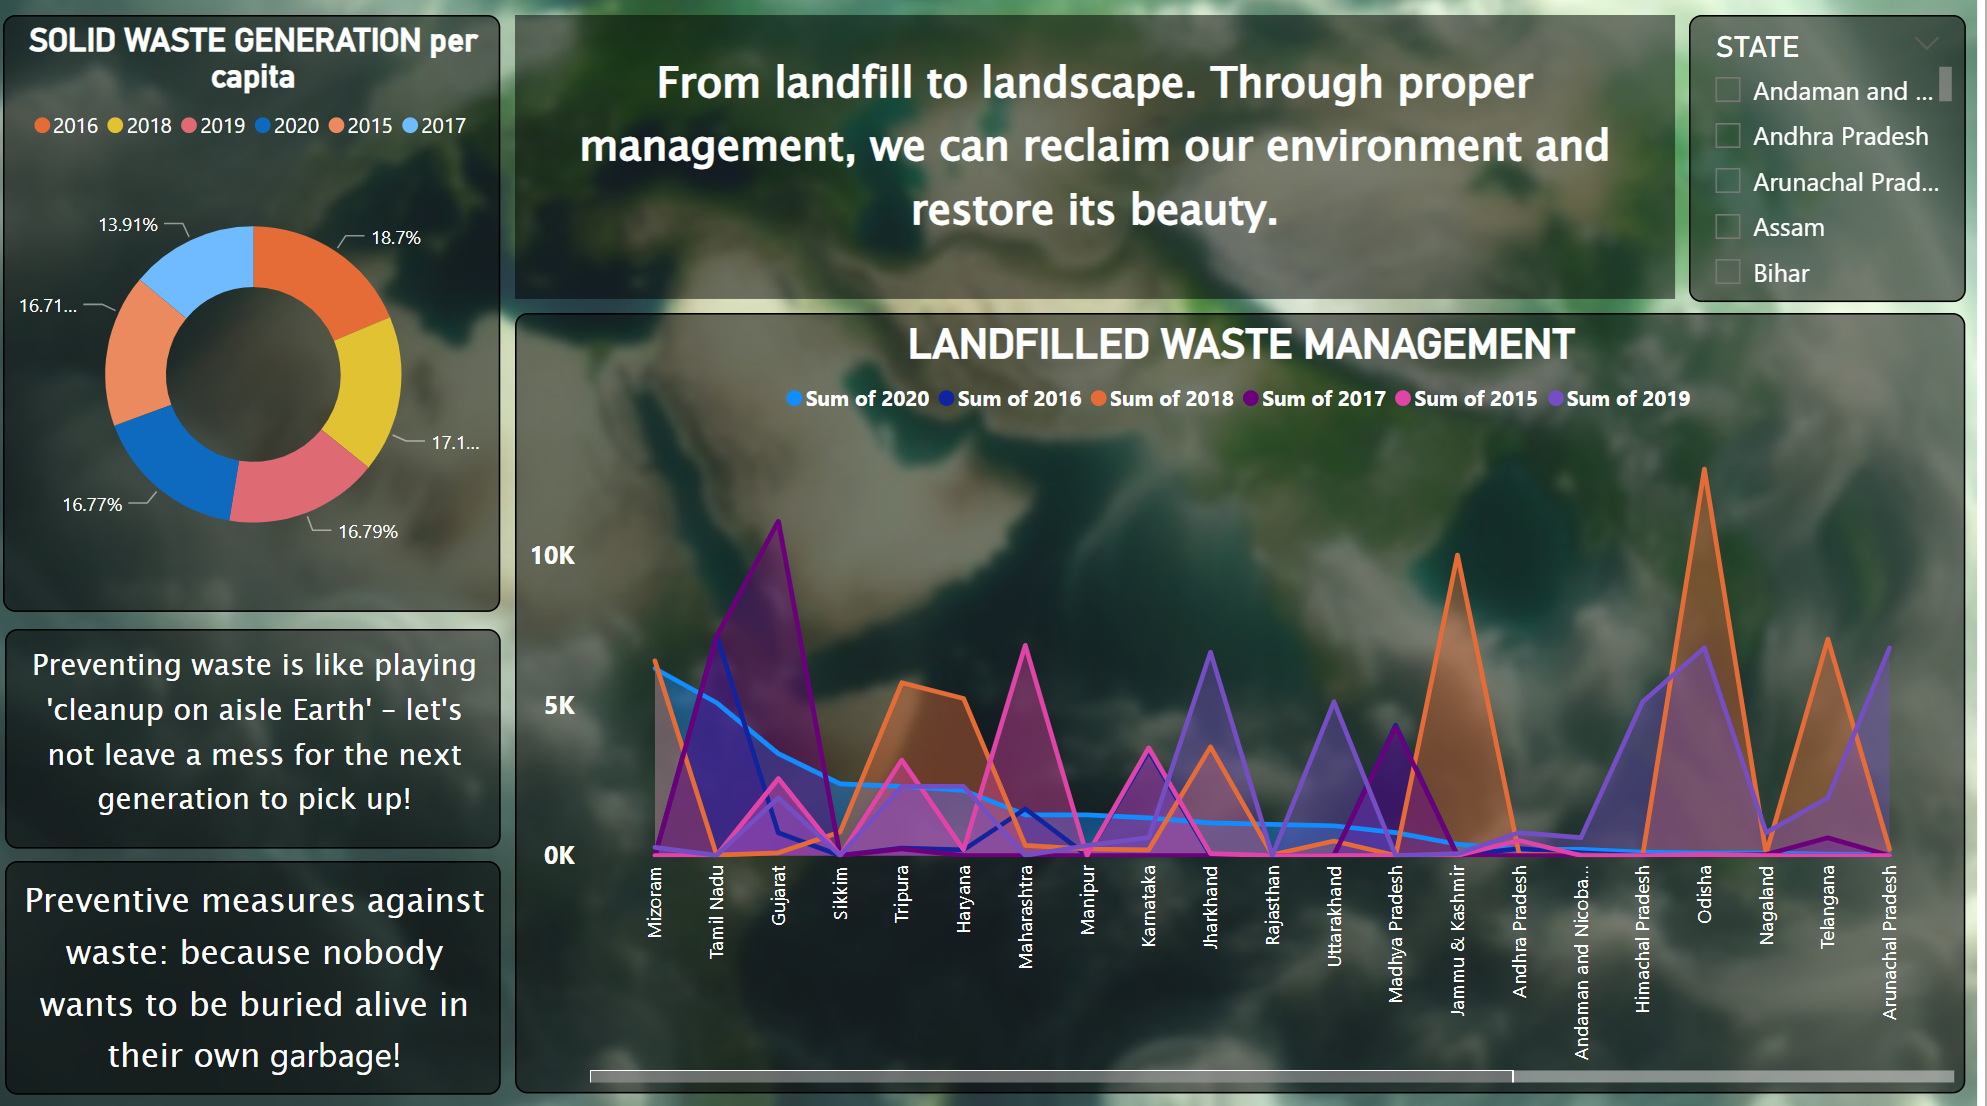

The dashboard page shown, as its layout file describes it:
{"tool":"powerbi","page":{"name":"Page 2","canvas":[1280,720],"ordinal":1},"visuals":[{"type":"image","box":[0,0,1280.2,719.8],"z":0},{"type":"areaChart","title":"LANDFILLED WASTE MANAGEMENT","fields":{"Category":["MSW.State"],"Y":["Sum(MSW.Landfilled(2020))","Sum(MSW.Landfilled(2016))","Sum(MSW.Landfilled(2018))","Sum(MSW.Landfilled(2017))","Sum(MSW.Landfilled(2015))","Sum(MSW.Landfilled(2019))","Sum(MSW.Landfilled(2015))"]},"box":[343,207,924.4,497.7],"z":1000},{"type":"donutChart","title":"SOLID WASTE GENERATION                  per capita","fields":{"Category":["solid waste generation.Year"],"Y":["Sum(solid waste generation.Solid waste generation per Capita (gm/day))"]},"box":[16.9,16.9,317.2,380.6],"z":2000},{"type":"textbox","box":[342.9,16.6,739.4,181],"z":3000},{"type":"textbox","box":[18,556.1,316.1,149.1],"z":4000},{"type":"slicer","fields":{"Values":["MSW.State"]},"box":[1091.1,16.9,176.6,182.9],"z":5000},{"type":"textbox","box":[17.8,407.4,316.1,140.2],"z":6000}]}

Visuals, with their boxes in screenshot pixels (x1, y1, x2, y2), scaled from the page's 1280x720 canvas onto the 1987x1106 screenshot:
image: l=0, t=0, r=1986, b=1105
"LANDFILLED WASTE MANAGEMENT" areaChart: l=532, t=318, r=1967, b=1082
"SOLID WASTE GENERATION                  per capita" donutChart: l=26, t=26, r=519, b=611
textbox: l=532, t=25, r=1680, b=304
textbox: l=28, t=854, r=519, b=1083
slicer - MSW.State: l=1694, t=26, r=1968, b=307
textbox: l=28, t=626, r=518, b=841
